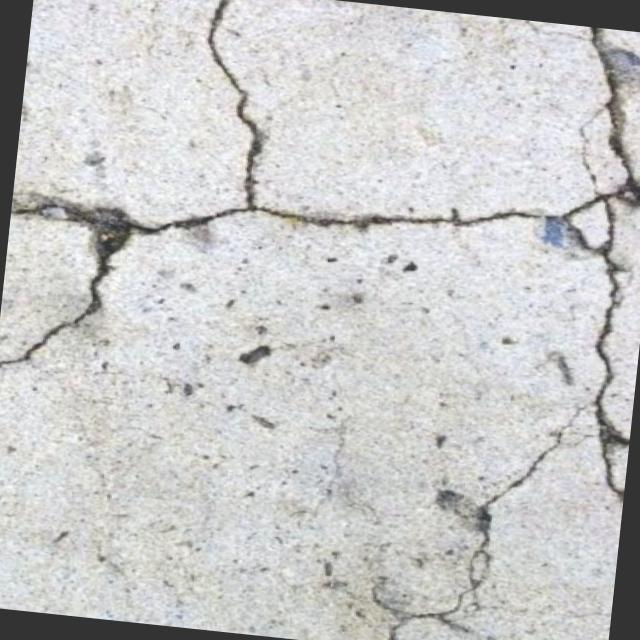crack: (511, 24, 640, 513), (361, 384, 587, 640), (0, 195, 135, 382), (256, 184, 541, 254), (186, 0, 278, 205), (132, 194, 258, 252)
